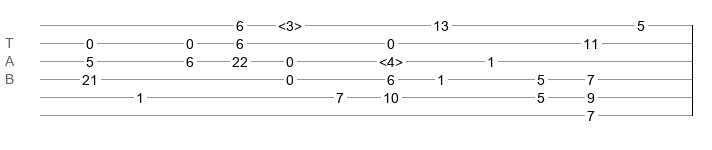0: (86, 36, 94, 46), (186, 36, 194, 46), (286, 72, 294, 82), (286, 54, 294, 64), (387, 36, 395, 46)
1: (136, 90, 144, 100), (437, 72, 445, 82), (487, 54, 495, 64)
10: (383, 90, 399, 100)
11: (583, 36, 599, 46)
13: (433, 18, 449, 28)
21: (82, 72, 98, 82)
22: (232, 54, 248, 64)
5: (86, 54, 94, 64), (537, 72, 545, 82), (537, 90, 545, 100), (637, 18, 645, 28)
6: (186, 54, 194, 64), (236, 18, 244, 28), (236, 36, 244, 46), (387, 72, 395, 82)
7: (336, 90, 344, 100), (587, 72, 595, 82), (587, 108, 595, 118)
9: (587, 90, 595, 100)
harmonic: (278, 18, 302, 28), (379, 54, 403, 64)
